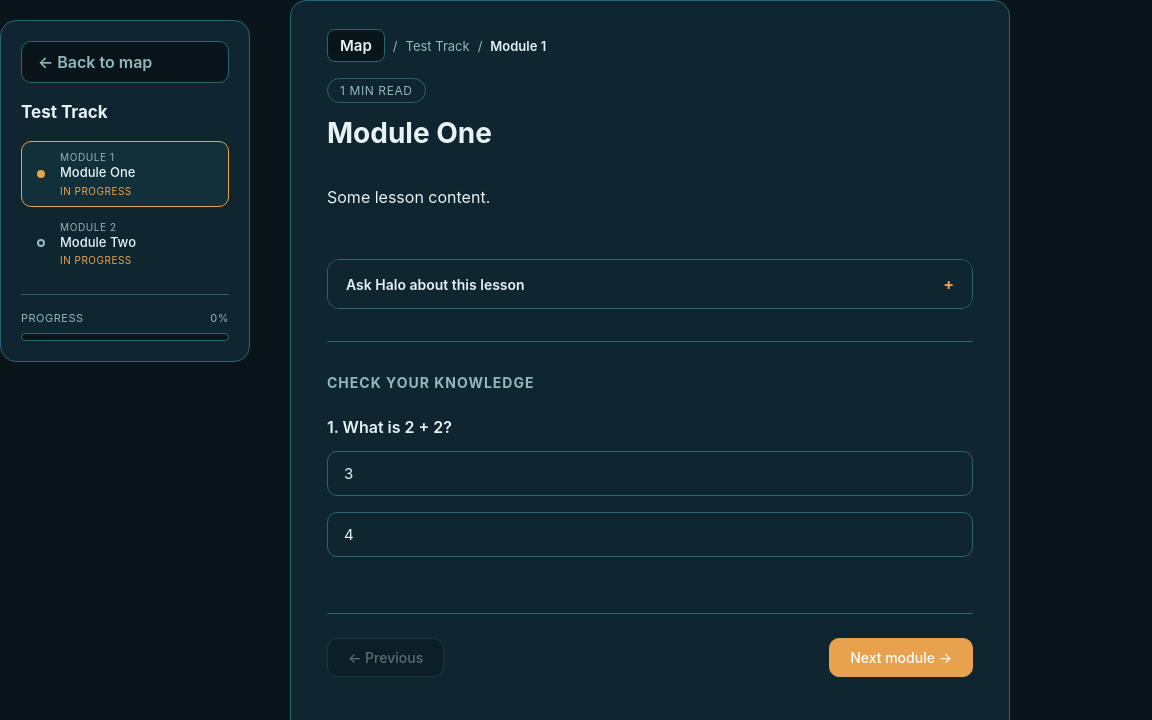
ModuleLayout quiz › awards fewer stars after a retake
Click the button "3".
click(349, 474)  # box [327,451,973,496]
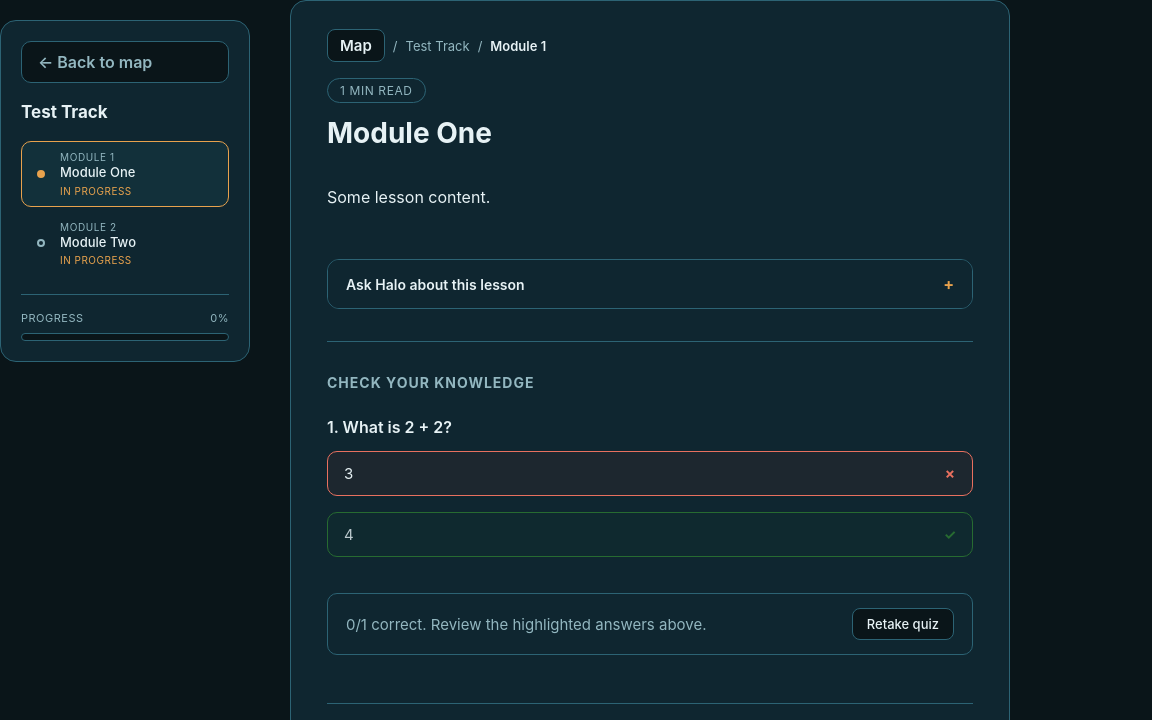
Click the button "Retake quiz".
click(903, 624)  # box [852,608,954,640]
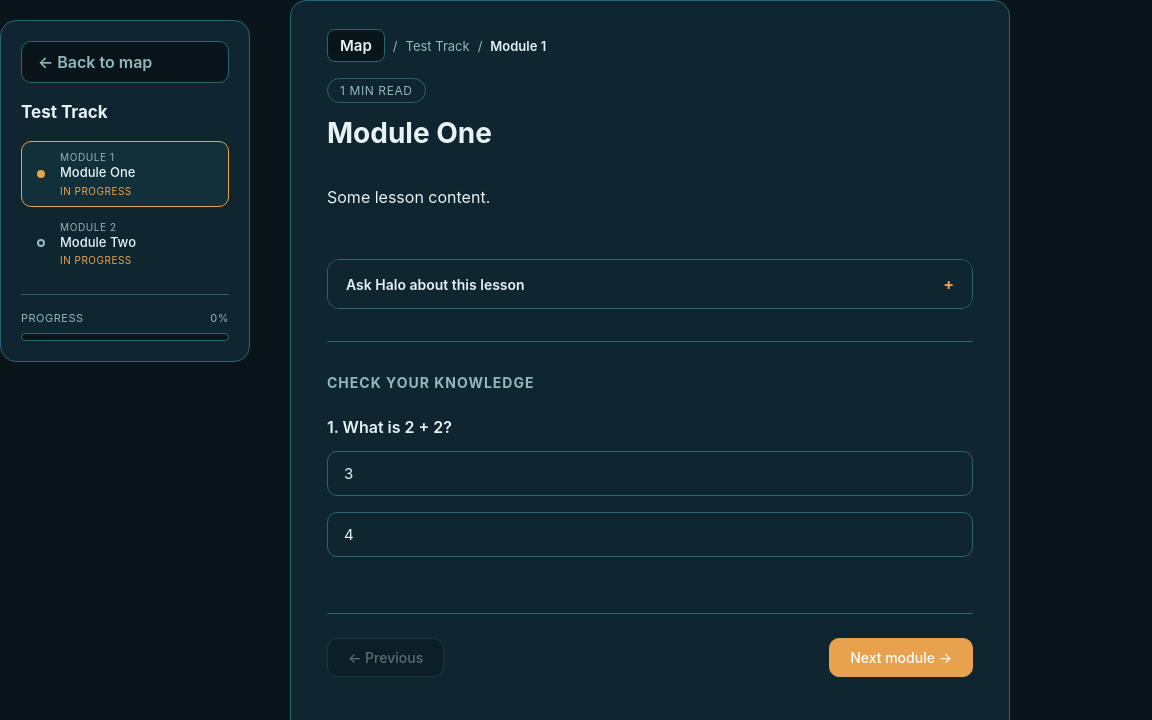
Click the button "4".
click(349, 535)  # box [327,512,973,557]
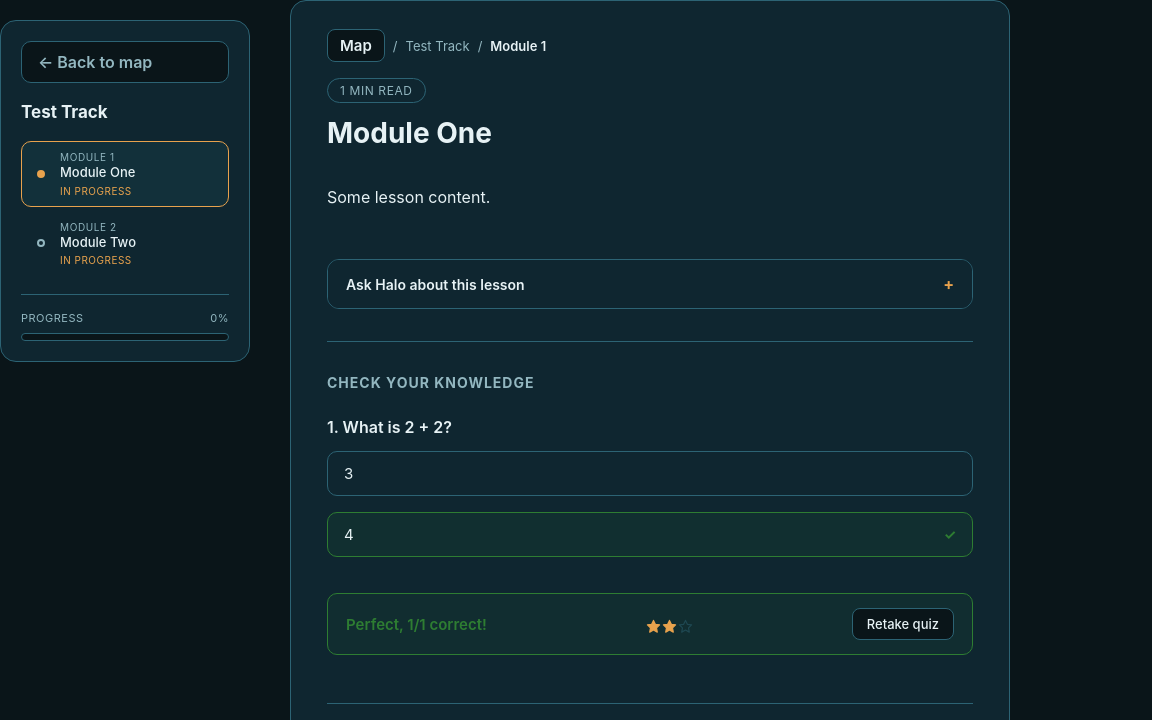
Now the element named "2 out of 3 stars" is shown, box [646,619,693,638]
